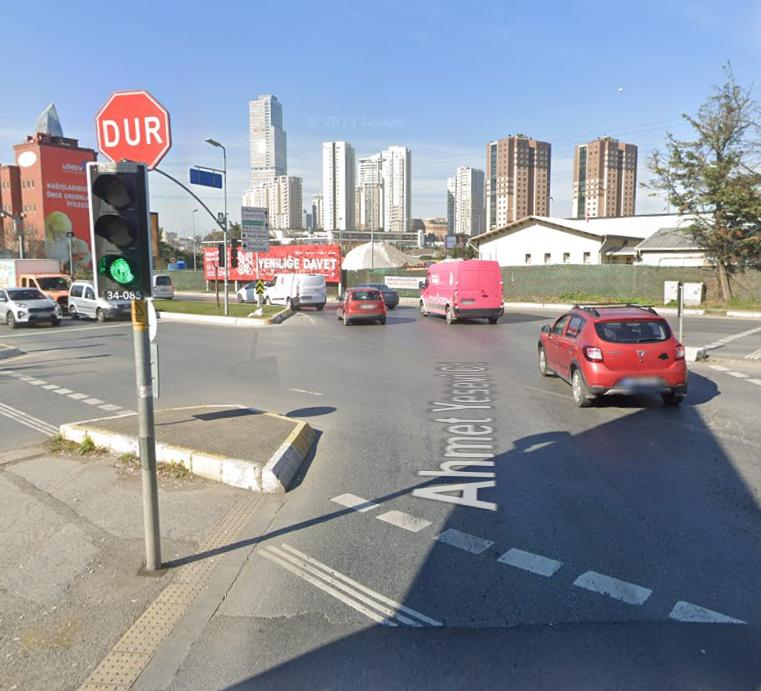greenlight: (85, 163, 154, 292)
stop: (98, 94, 169, 163)
